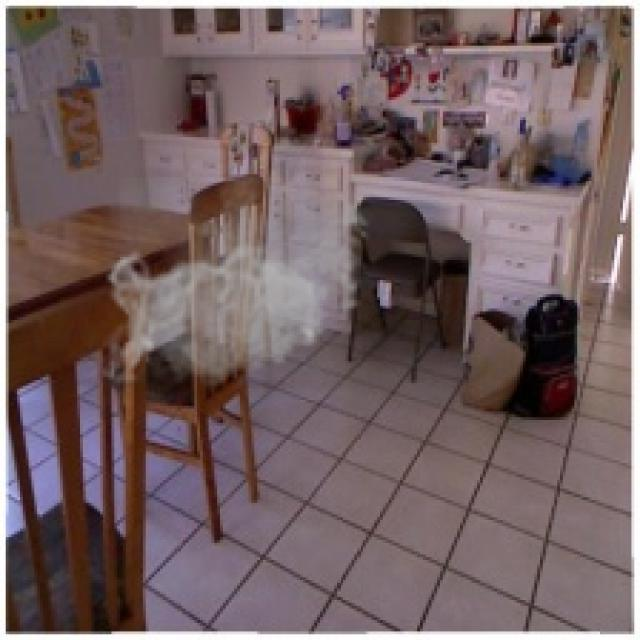smoke: (103, 177, 377, 394)
